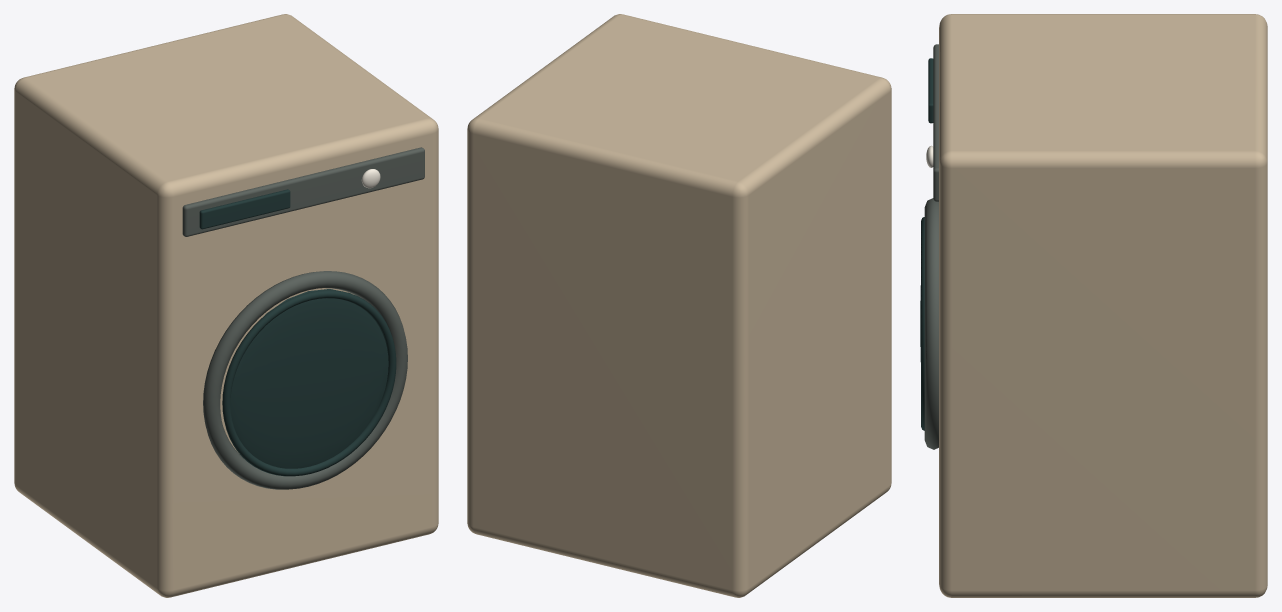
3 renders of one model, left to right at view 1: azimuth 30°, elevation 25°; view 2: azimuth 150°, elevation 25°; view 3: azimuth 270°, elevation 25°, orthographic. The views are drawn at different scales.
Parts seen in each view (by area): view 1: body, door_glass, door_rim, control, door_gasket, display; view 2: body; view 3: body, door_rim, control, door_gasket.
Part boxes in pixels (x1,y1,x2,y2): body: (14,14,438,597); door_glass: (230,289,388,468); door_rim: (203,271,407,489); control: (182,147,424,236); door_gasket: (222,290,396,476); display: (199,189,290,229); body: (467,14,891,597); body: (939,14,1267,597); door_rim: (924,198,938,449); control: (933,44,938,201); door_gasket: (921,217,924,430).
Bounding box in the file's own units: 0.6 × 0.85 × 0.6.
